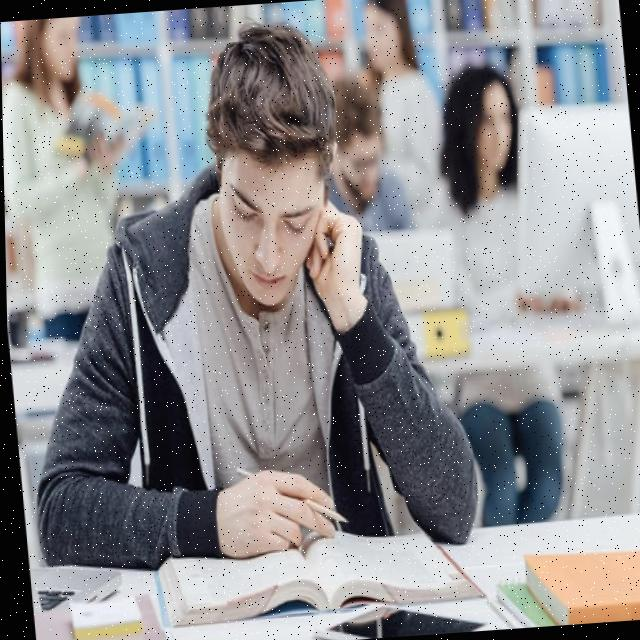studying-person: (23, 7, 492, 633)
